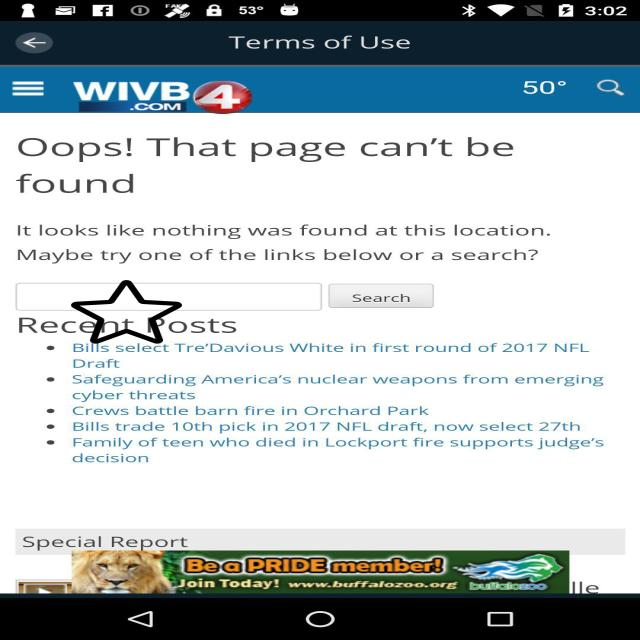forced continuity: (71, 279, 182, 345)
